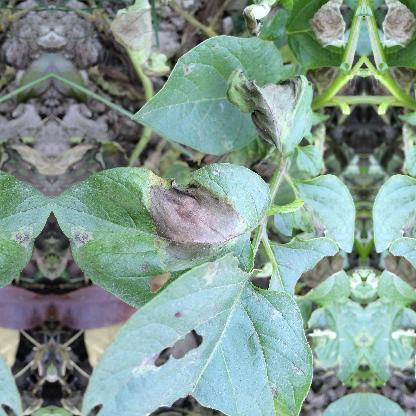Late-Blight: (54, 0, 364, 414)
